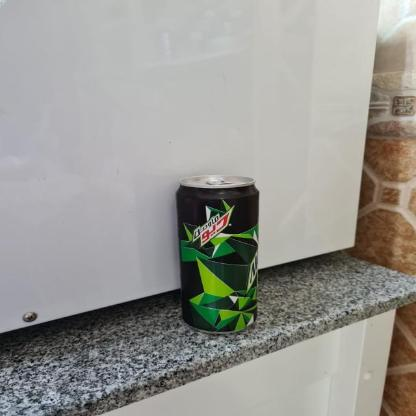Can: (170, 173, 261, 335)
